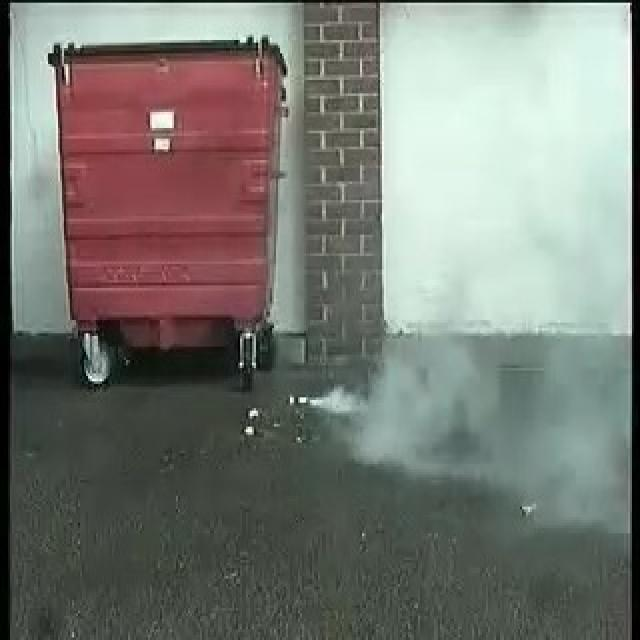smoke: (294, 319, 486, 471)
